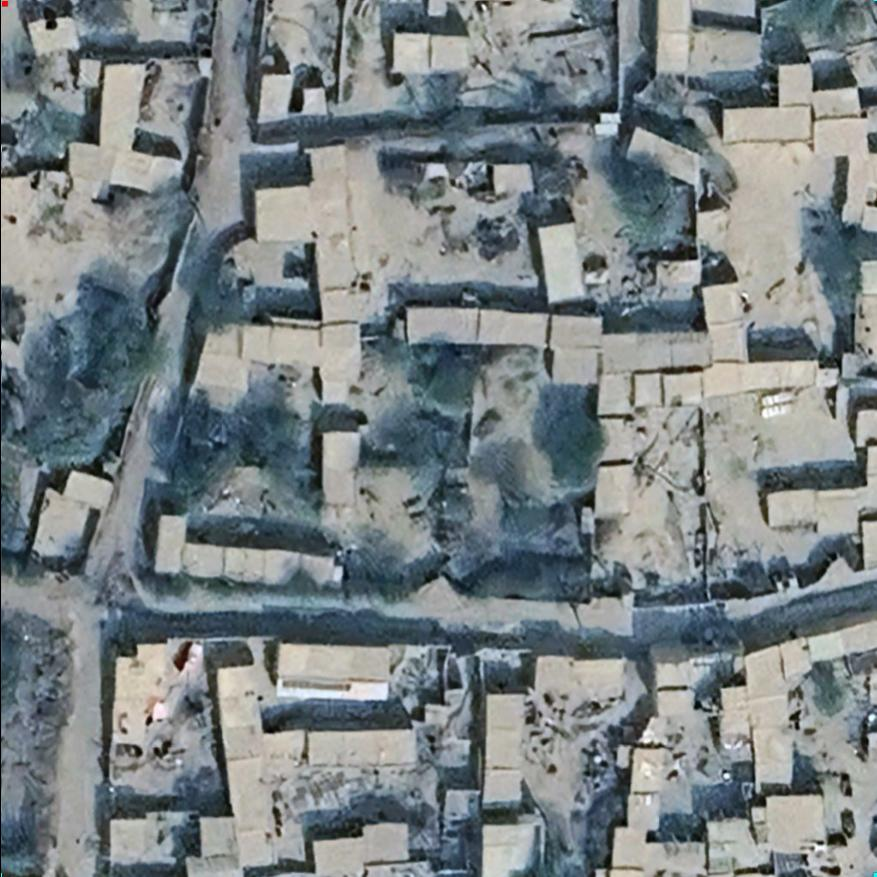Solarpanel: (760, 401, 797, 420), (761, 391, 797, 407), (635, 794, 651, 806)
